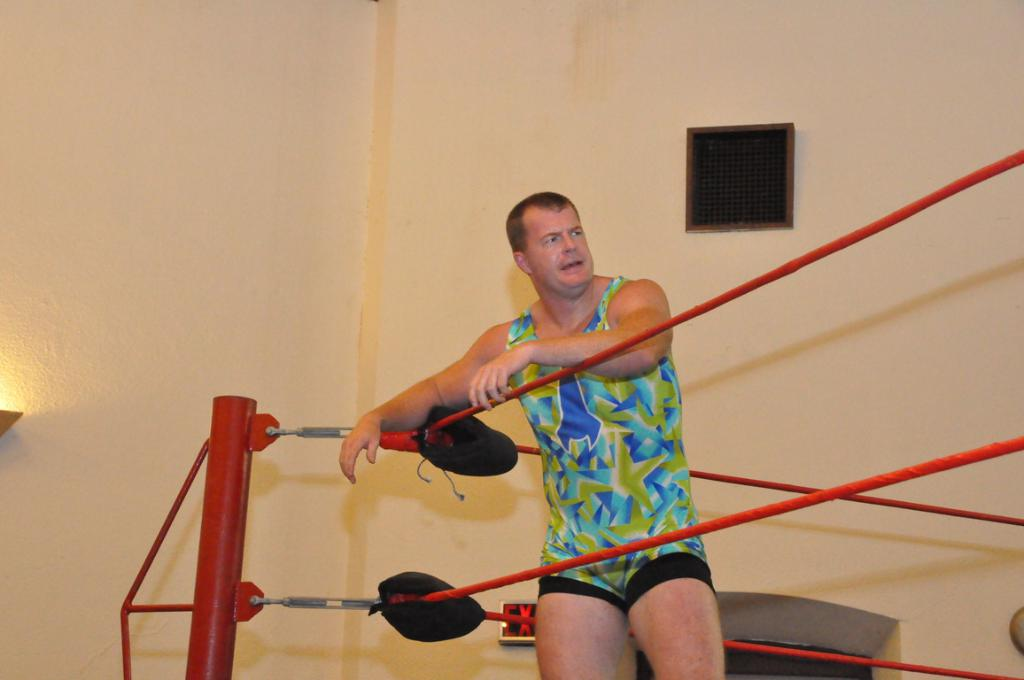Person: (337, 191, 724, 679)
